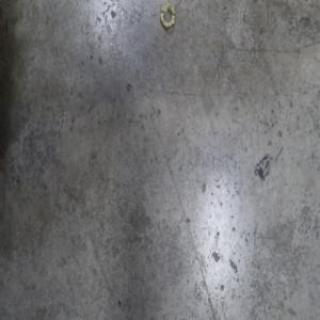Nuttrack_idkeyframe: (158, 0, 176, 32)
